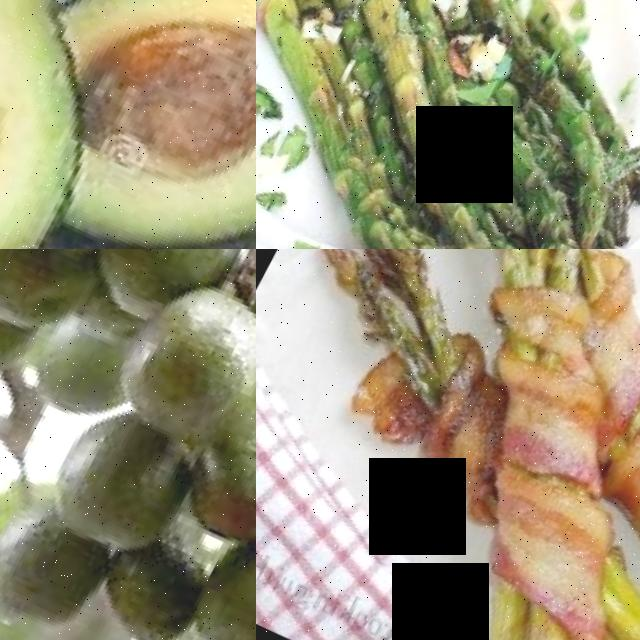asparagus: (284, 0, 640, 249)
avocado: (33, 0, 256, 249), (0, 0, 187, 249), (30, 388, 227, 583), (94, 257, 256, 487), (0, 148, 256, 249), (19, 274, 164, 425), (0, 494, 132, 640), (75, 249, 256, 349), (84, 517, 225, 640), (178, 370, 256, 557), (169, 475, 256, 640), (0, 249, 131, 354), (0, 249, 61, 392), (203, 249, 256, 397)
